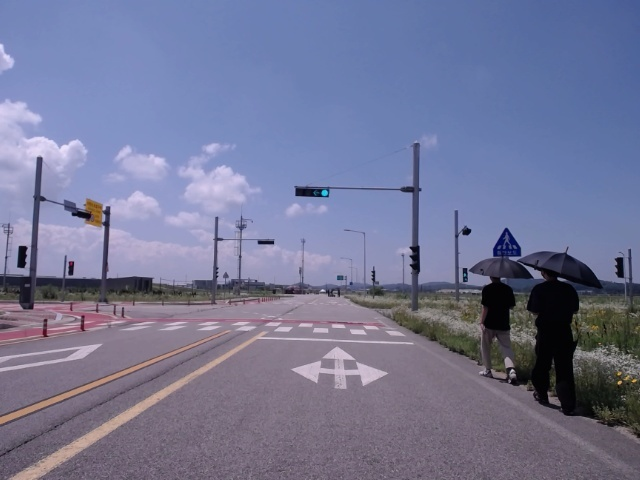all_green_4: (294, 186, 330, 196)
